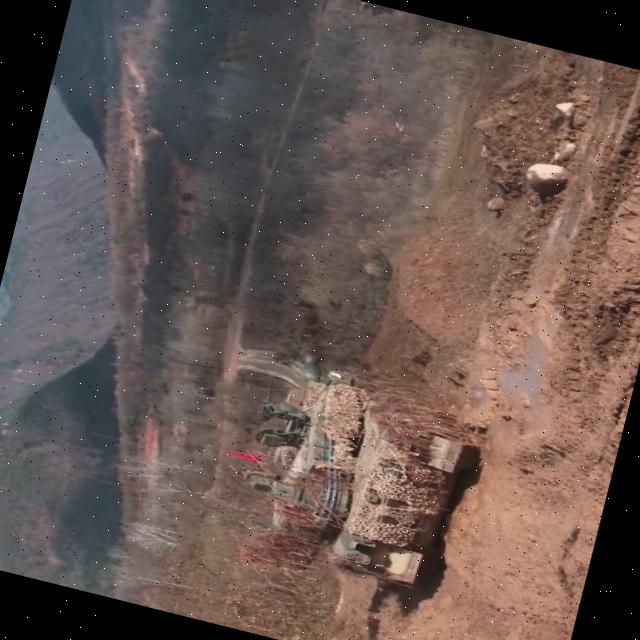korea tank: (212, 291, 516, 610)
